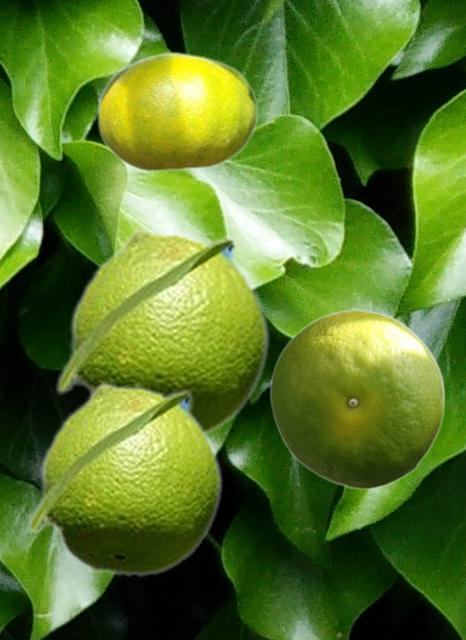dalandan: (53, 227, 270, 435), (25, 381, 223, 577), (269, 308, 444, 489), (96, 51, 257, 172)
